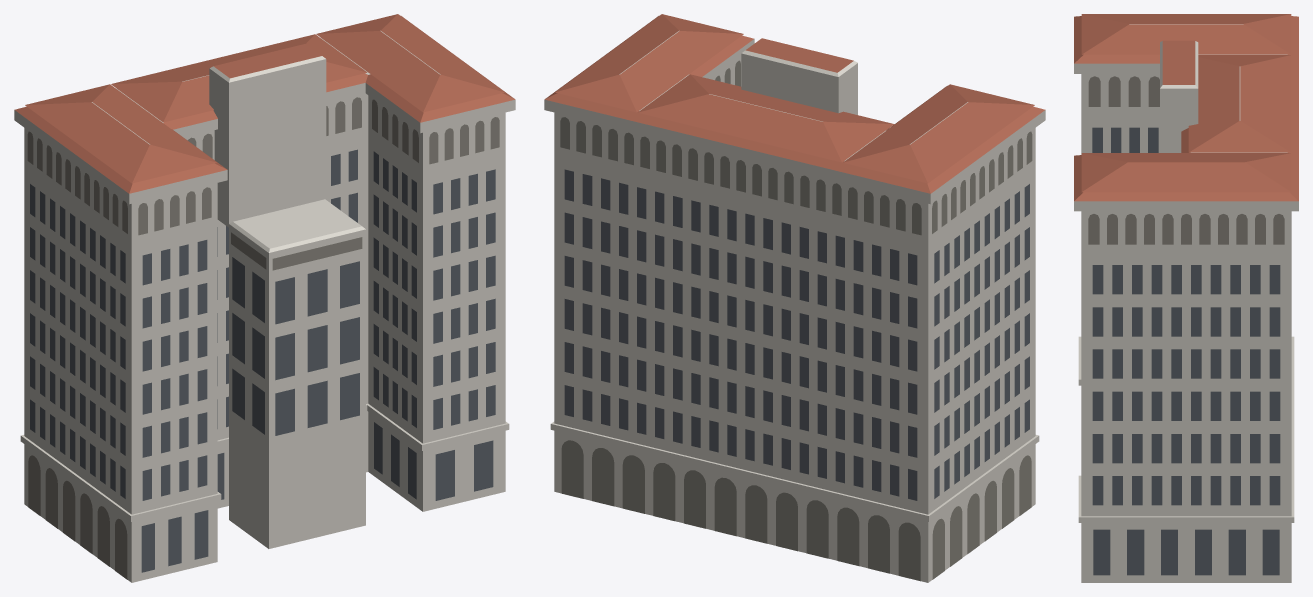
File: sd-john-d-spreckels-building.glb
The picture shows the model from 3 angles, left to right: view 1: azimuth 30°, elevation 25°; view 2: azimuth 150°, elevation 25°; view 3: azimuth 270°, elevation 25°; orthographic projection. The views are drawn at different scales.
Parts seen in each view (by area): view 1: John D. Spreckels Building; view 2: John D. Spreckels Building; view 3: John D. Spreckels Building.
Boxes of the visible parts, x1,y1,x2,y2 form: John D. Spreckels Building: (14,14,515,582); John D. Spreckels Building: (544,14,1045,582); John D. Spreckels Building: (1074,14,1298,582).
Bounding box in the file's own units: 61.6 × 67 × 31.7.
